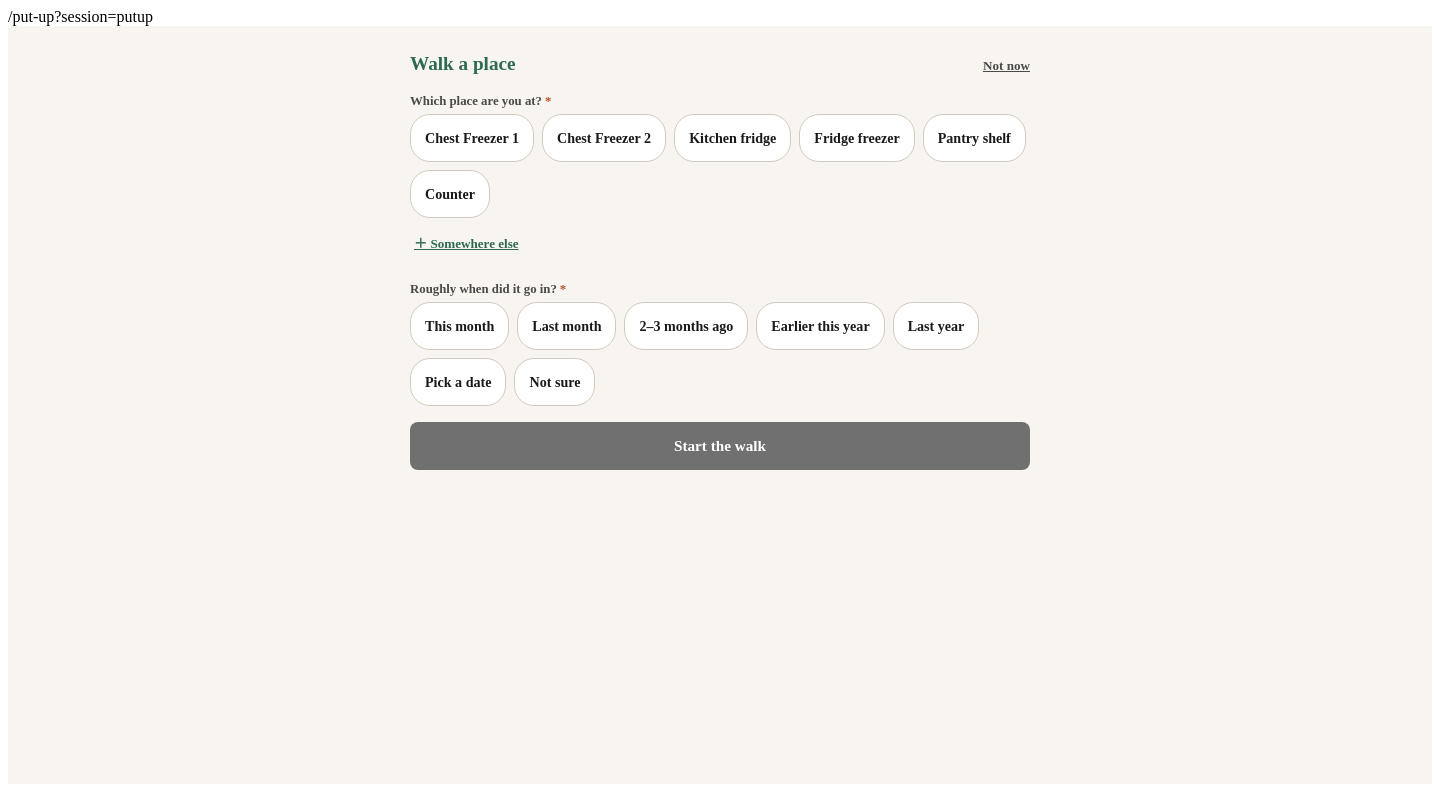
setup: one place and one date for the sitting (required 2, nothing preselected) › needs BOTH answers before the walk can start
This screenshot has width=1440, height=810.
expect the button with test id "putup-walk-start" is disabled: met, box top-left (410, 422), bottom-right (1030, 470)
Click the radio button labelled "Chest Freezer 1": [472, 138] box top-left (410, 114), bottom-right (534, 162)
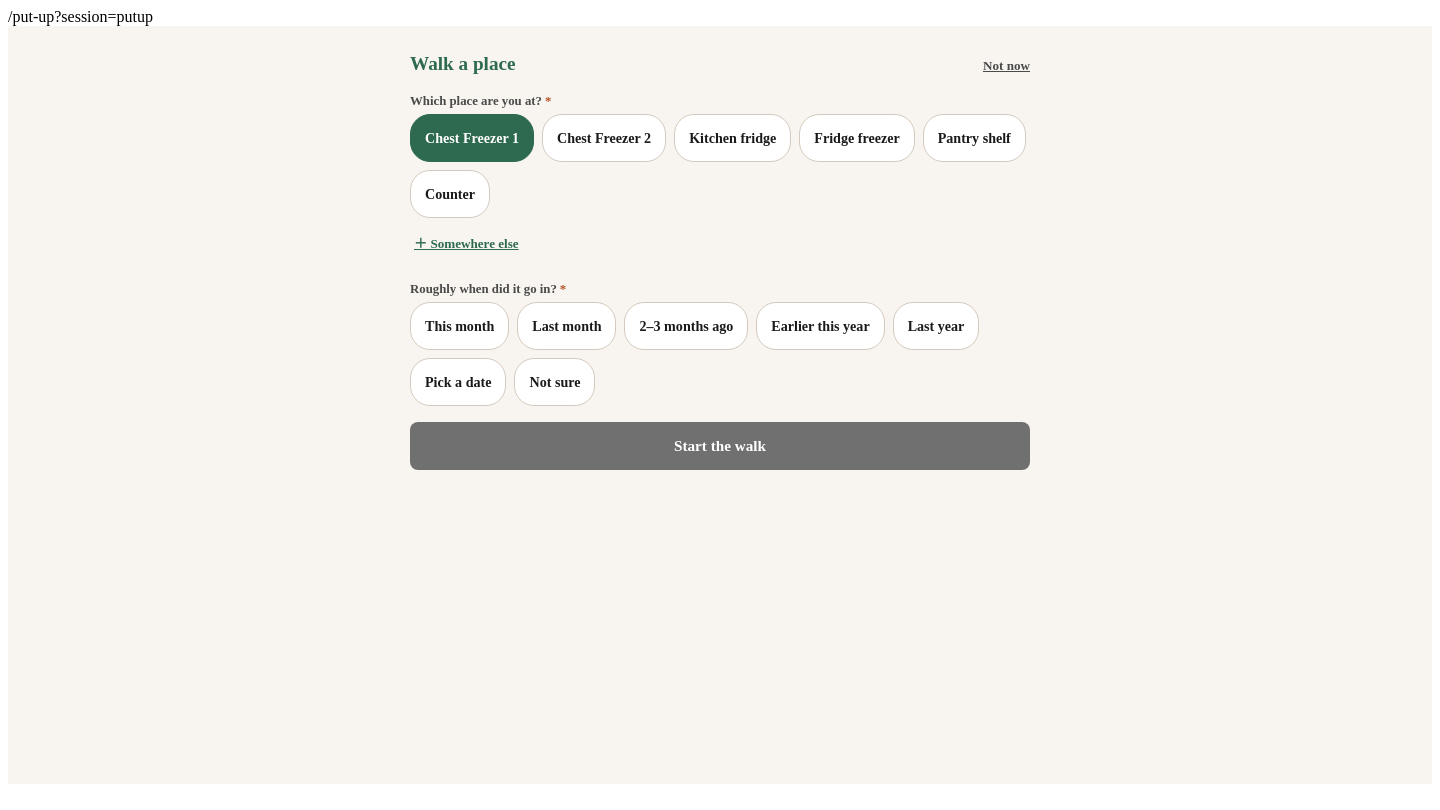
expect the button with test id "putup-walk-start" is disabled: met, box top-left (410, 422), bottom-right (1030, 470)
Click the radio button labelled "This month": [460, 326] box top-left (410, 302), bottom-right (509, 350)
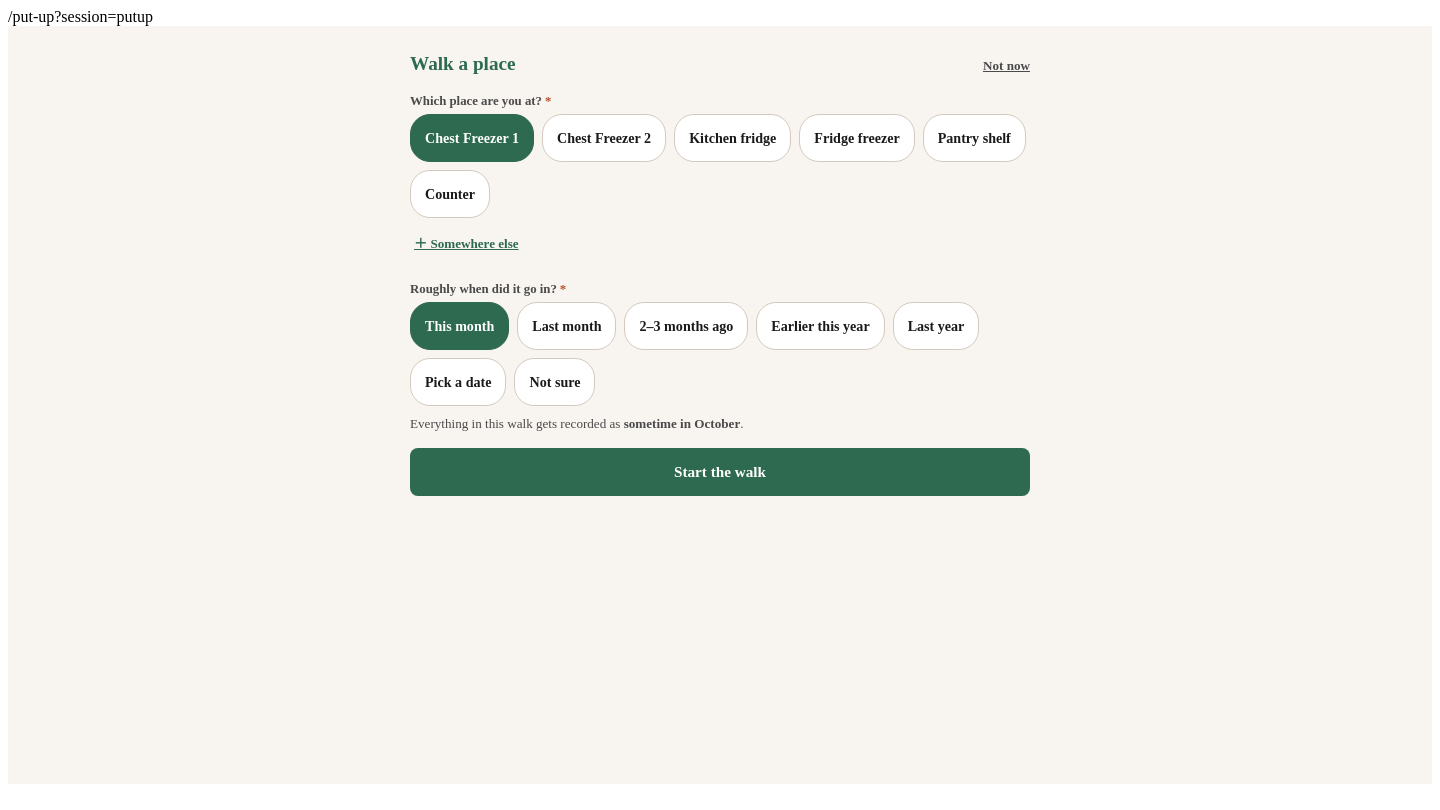
expect the button with test id "putup-walk-start" is enabled: met, box top-left (410, 448), bottom-right (1030, 496)
